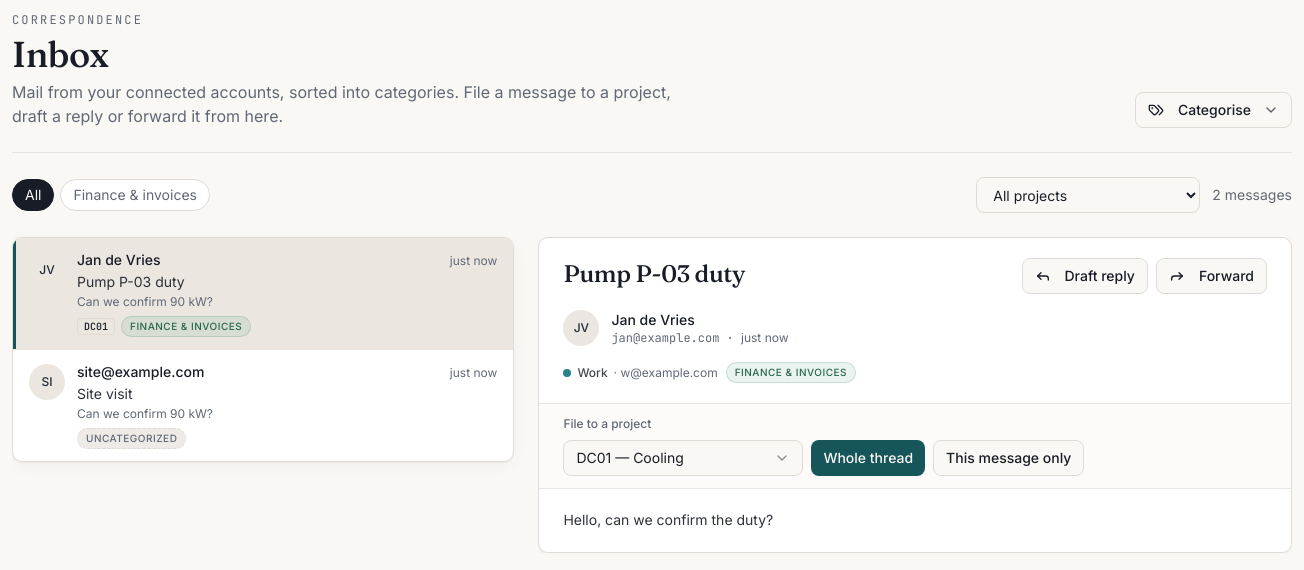
Test: InboxPage › lists messages as buttons with category names, and opens the first
This screenshot has width=1304, height=570.
Expected: the button that starts with "Jan de Vries" is shown, [13,238,513,349]
Expected: the button that starts with "Jan de Vries" shows "DC01", [13,238,513,349]
Click the button that starts with "site@example.com".
click(47, 382)  # box [13,350,513,461]
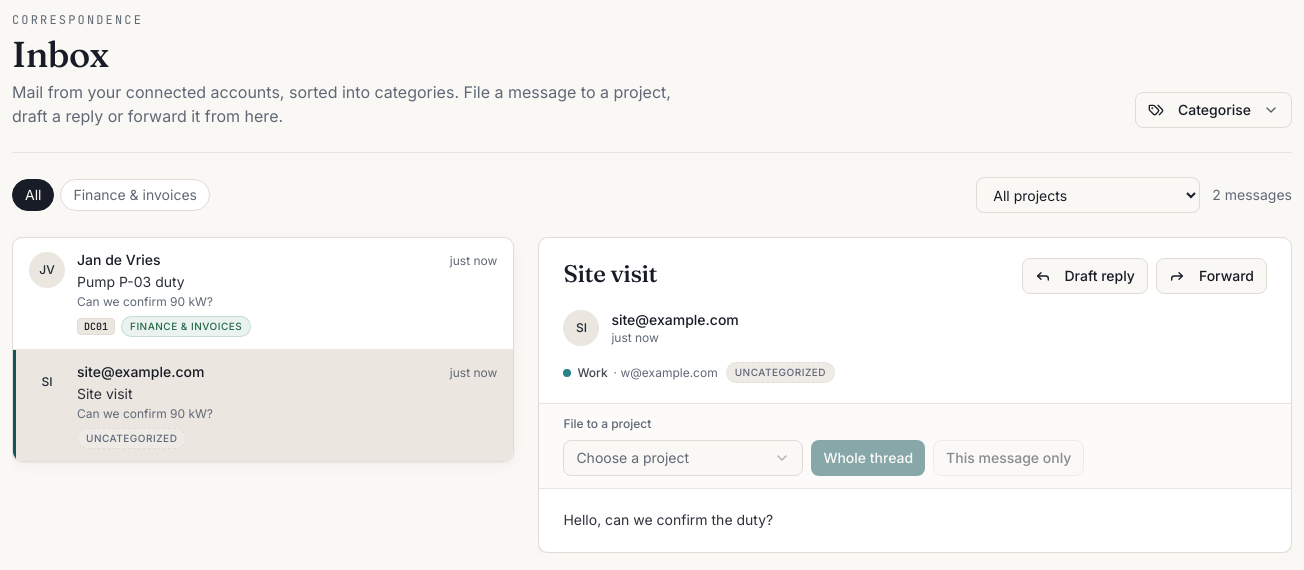
Result: the element "Site visit" is shown at [538,237,1292,553]
